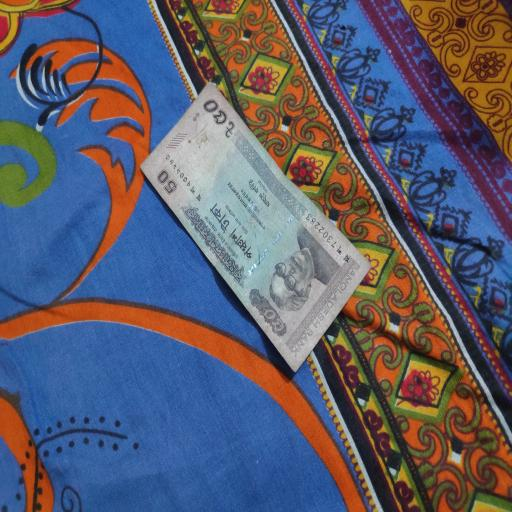50taka: (130, 73, 375, 378)
